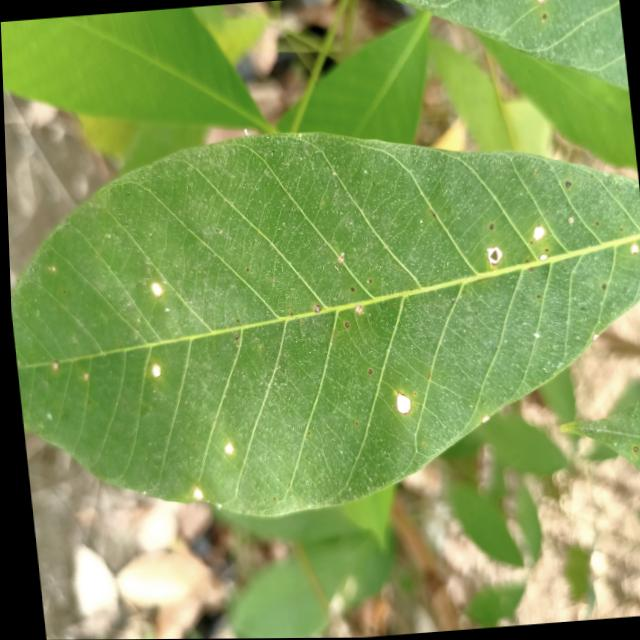Colletotrichum: (389, 391, 408, 416), (528, 225, 543, 240), (148, 282, 160, 299), (148, 362, 157, 379), (219, 442, 230, 454), (626, 243, 636, 256), (535, 254, 545, 261), (533, 0, 545, 4), (485, 223, 490, 231), (562, 182, 568, 188), (341, 322, 346, 328), (598, 285, 603, 291), (364, 369, 368, 375), (541, 14, 545, 20), (525, 268, 530, 272), (347, 288, 351, 292), (592, 222, 596, 226), (365, 279, 368, 283), (542, 249, 545, 253)
